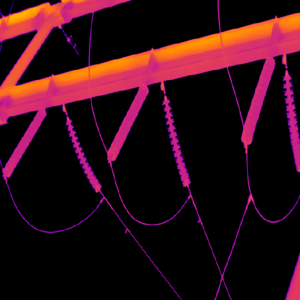insulator: (106, 83, 149, 160), (2, 106, 47, 178), (238, 55, 274, 143), (160, 90, 190, 188), (66, 115, 101, 193), (281, 68, 300, 173)
